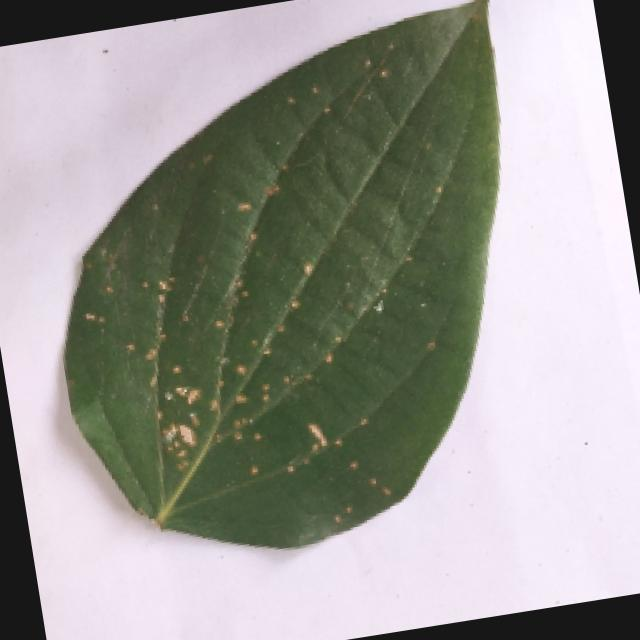pollu-disease: (14, 0, 568, 585)
